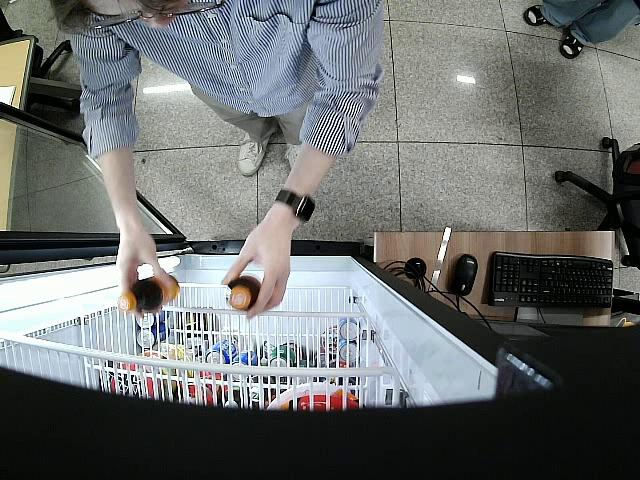00_hand: (221, 228, 291, 320), (115, 232, 180, 319)
17_vita500: (118, 274, 178, 315), (227, 274, 259, 309)
